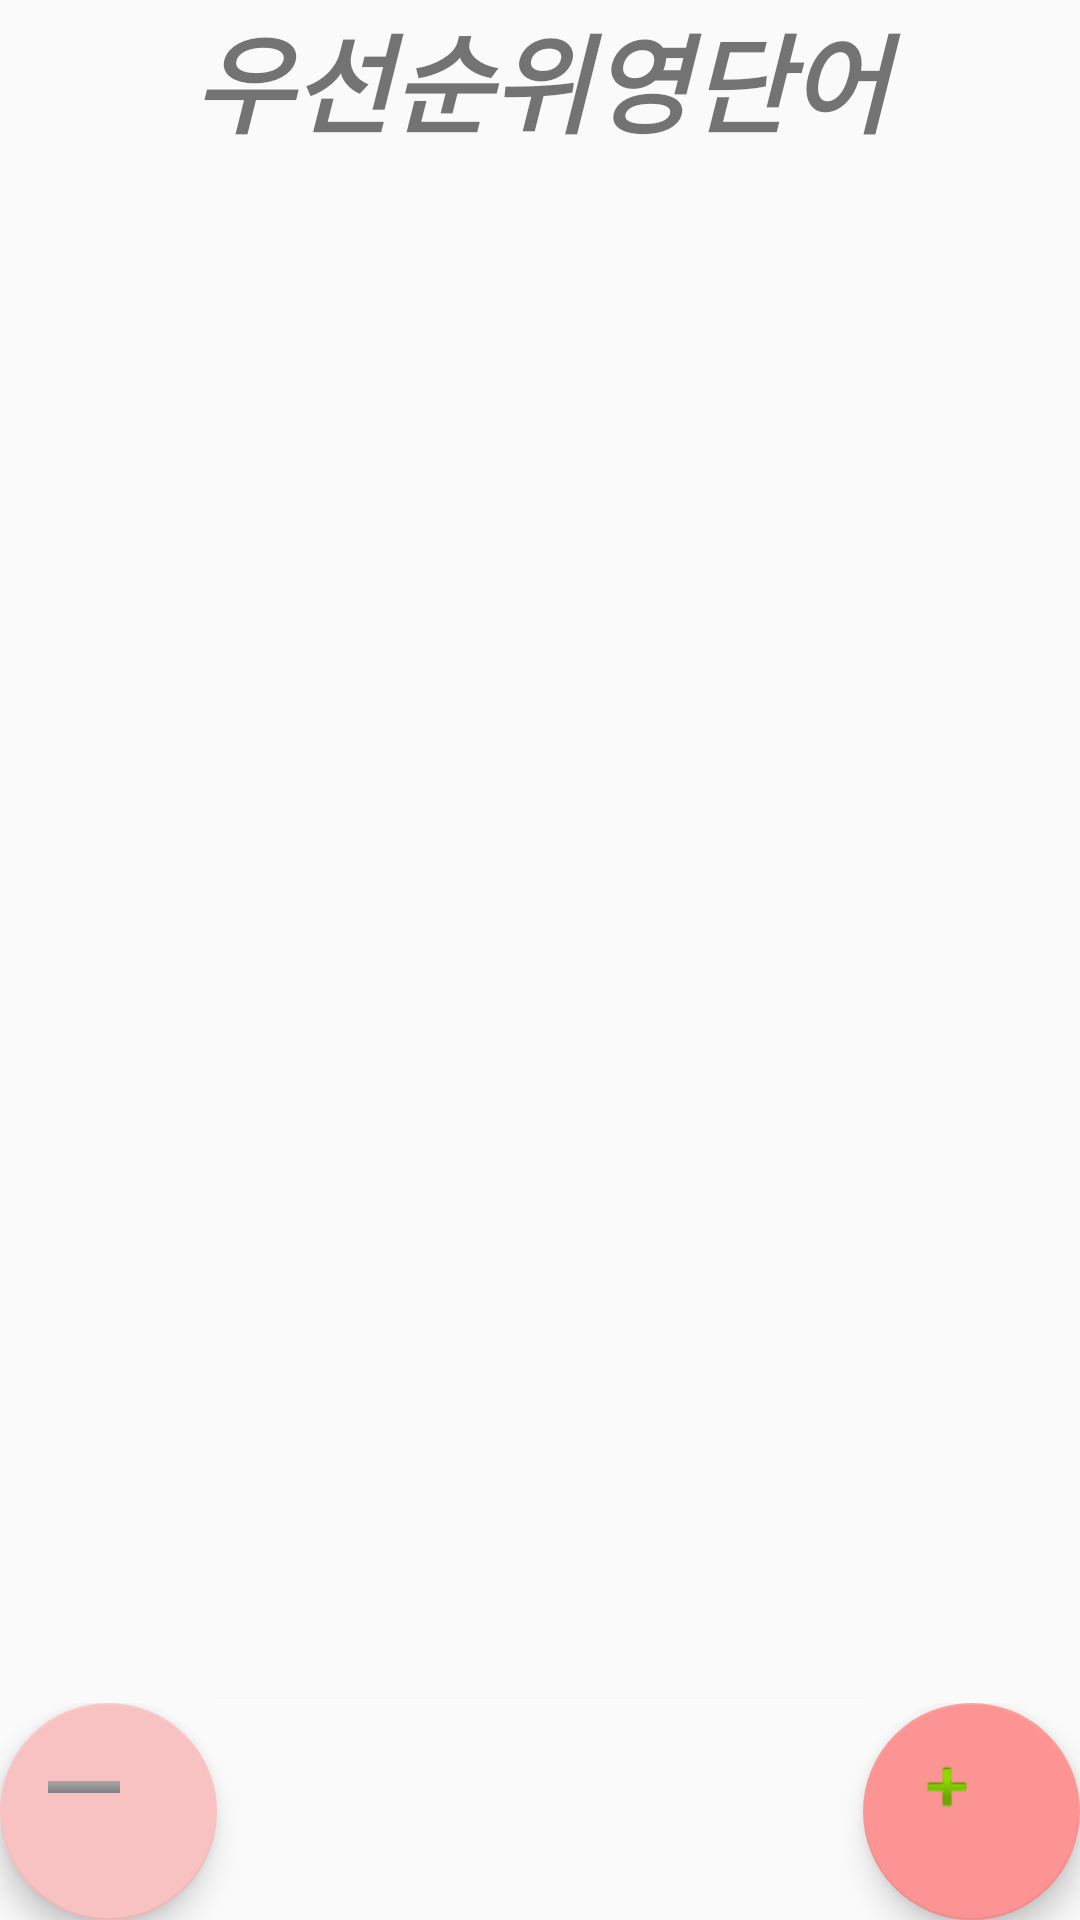

Where icons sit on this 1080px x 1920px app screen, as (x1, y1, x2, y2):
add: (863, 1703, 1080, 1920)
